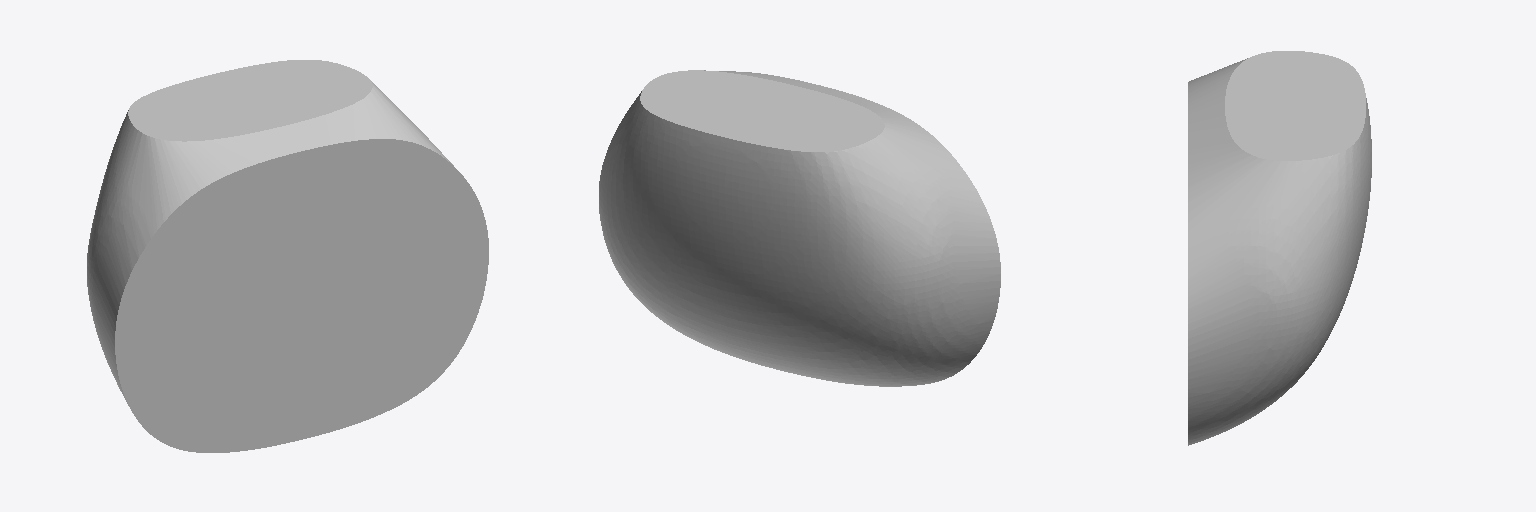
The model's file is duck_collision_1.obj.
3 renders of one model, left to right at view 1: azimuth 30°, elevation 25°; view 2: azimuth 150°, elevation 25°; view 3: azimuth 270°, elevation 25°, orthographic.
Size of the model in its own units: 0.0648 by 0.0497 by 0.0276.